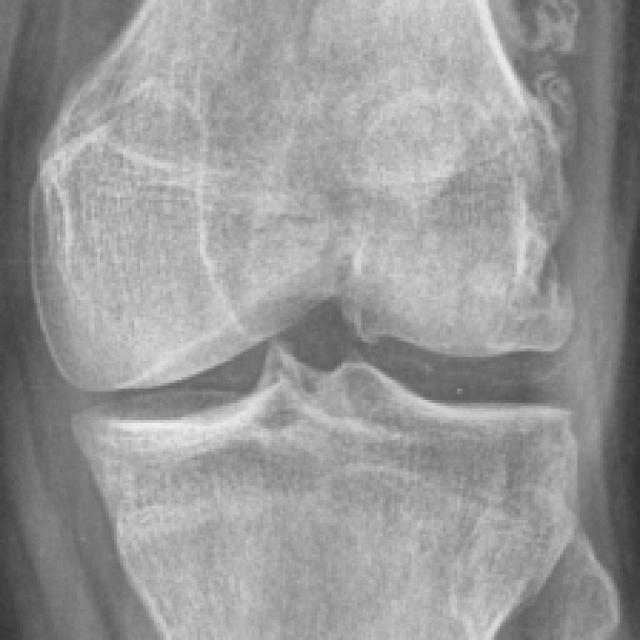femur: (29, 1, 576, 390)
tibia: (67, 346, 579, 640)
